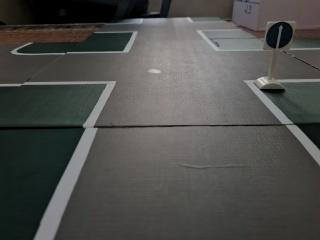straight: (263, 18, 296, 52)
